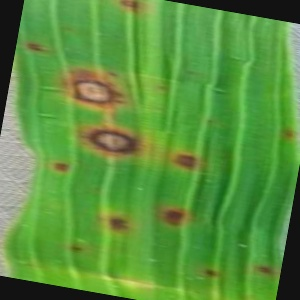Bacterial_Leaf_Blight: (70, 117, 150, 168), (58, 66, 134, 112), (155, 202, 194, 231), (169, 145, 202, 176), (104, 214, 133, 235), (51, 156, 73, 177), (115, 0, 146, 14), (24, 40, 52, 55), (201, 266, 223, 280), (253, 262, 275, 276), (280, 125, 298, 141), (185, 67, 204, 80), (65, 242, 84, 254), (105, 69, 123, 80), (154, 81, 170, 93), (207, 117, 217, 126)
